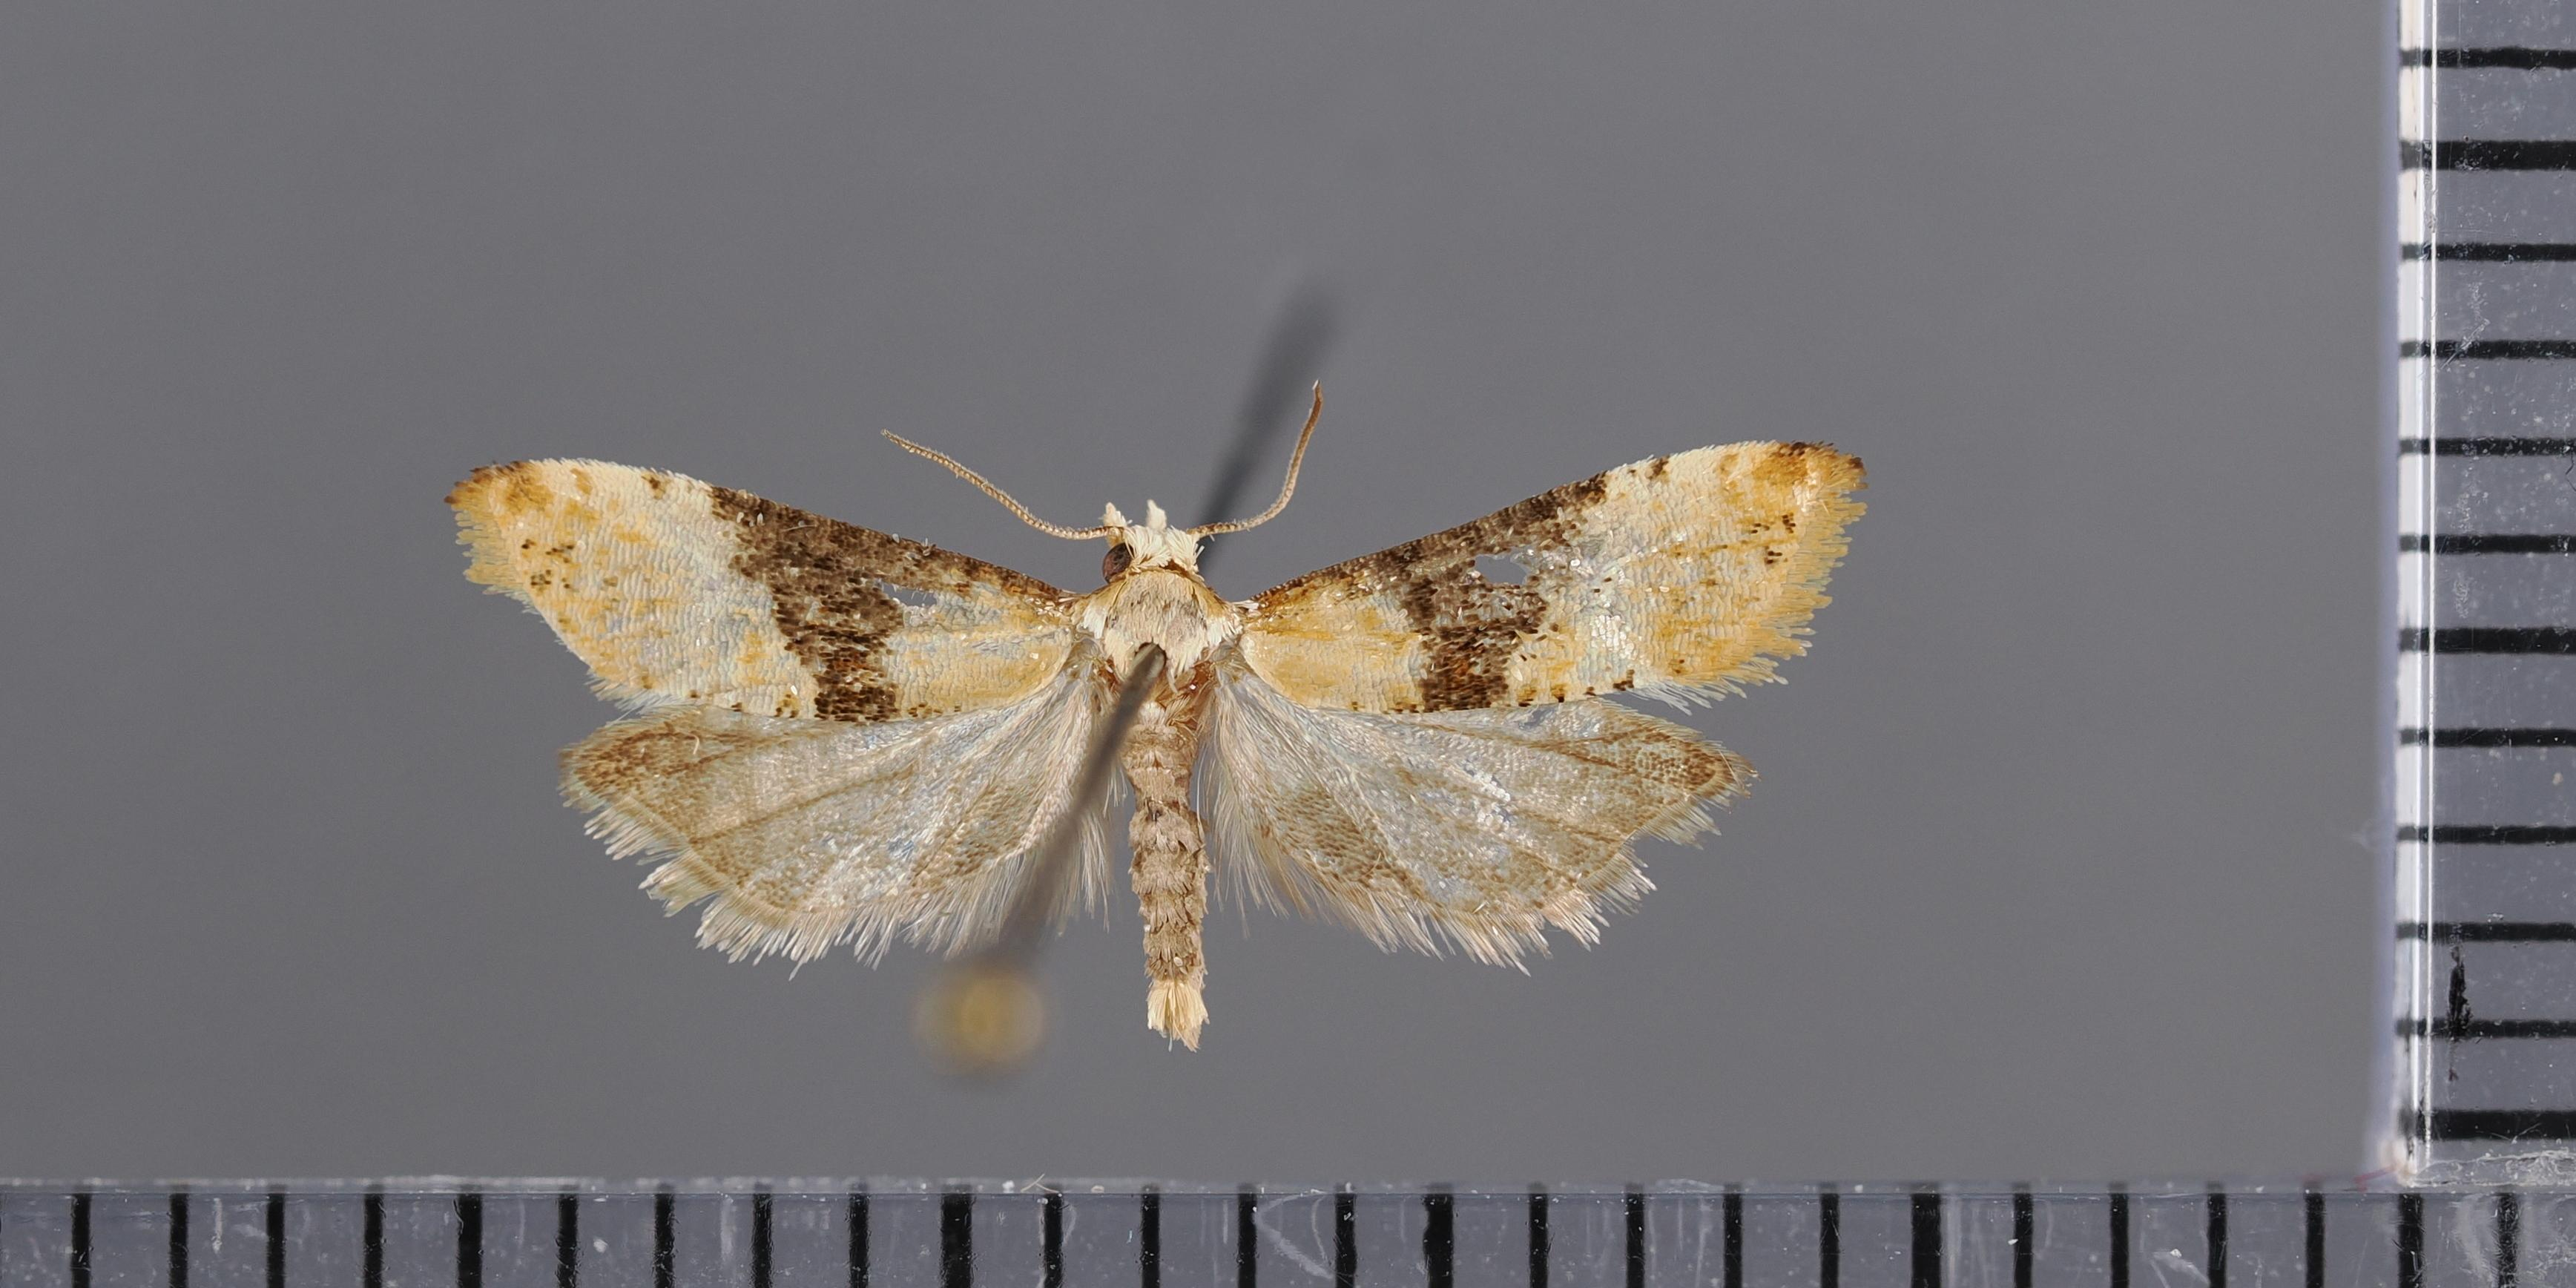Eupoecilia Ambiguella: (440, 376, 1874, 1056)
